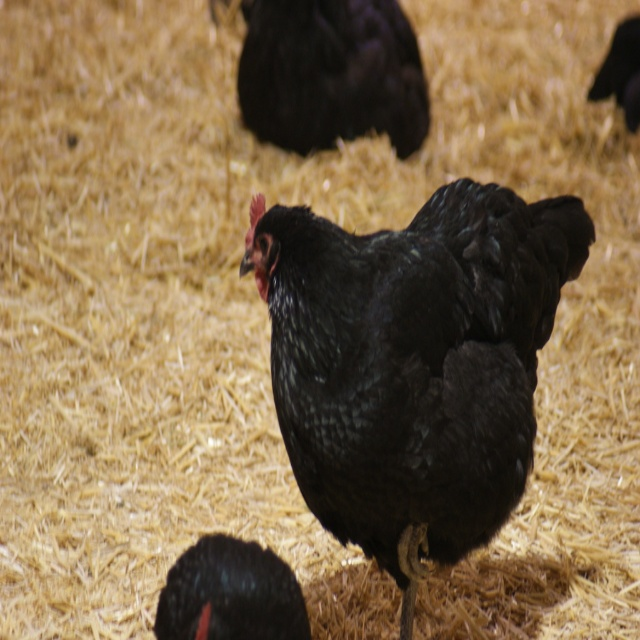Chicken: (240, 161, 586, 611), (235, 0, 431, 161)
